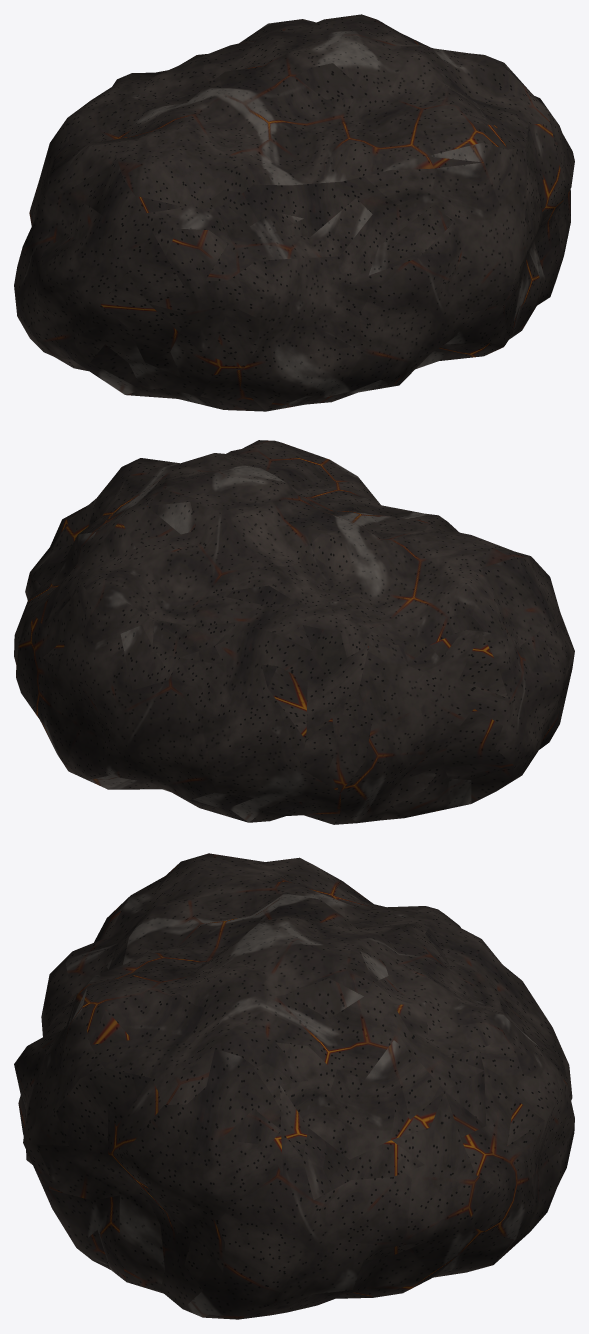
File: ENV_Volcano_Rock.fbx
3 views of the same model, one above another, from view 1: azimuth 30°, elevation 25°; view 2: azimuth 150°, elevation 25°; view 3: azimuth 270°, elevation 25° (orthographic). The views are drawn at different scales.
Parts seen in each view (by area): view 1: ENV_Volcano_Rock; view 2: ENV_Volcano_Rock; view 3: ENV_Volcano_Rock.
Boxes of the visible parts, box(x1,y1,x2,y2) form: ENV_Volcano_Rock: box(14, 14, 574, 411); ENV_Volcano_Rock: box(14, 440, 574, 824); ENV_Volcano_Rock: box(14, 853, 574, 1319).
Size of the model in its own units: 1.33 by 0.6327 by 1.1.
